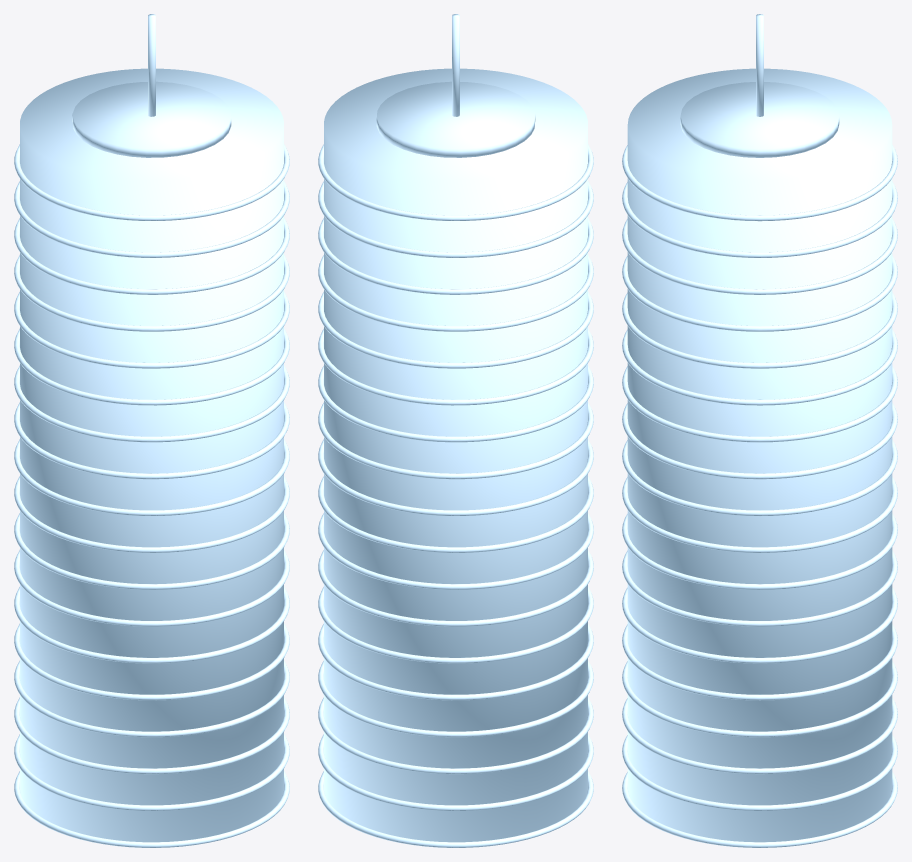
Rendered from building_cylindrical_small.glb.
3 views of the same model, side by side, from view 1: azimuth 30°, elevation 25°; view 2: azimuth 150°, elevation 25°; view 3: azimuth 270°, elevation 25° (orthographic).
Parts seen in each view (by area): view 1: CylindricalBuilding_small; view 2: CylindricalBuilding_small; view 3: CylindricalBuilding_small.
Part boxes in pixels (left/top/right/bottom): CylindricalBuilding_small: left=14, top=14, right=289, bottom=847; CylindricalBuilding_small: left=318, top=14, right=593, bottom=847; CylindricalBuilding_small: left=622, top=14, right=897, bottom=847.
Bounding box in the file's own units: 136 × 420 × 136.
